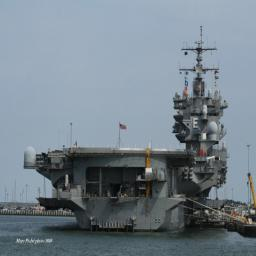Portanaves: (23, 22, 232, 235)
